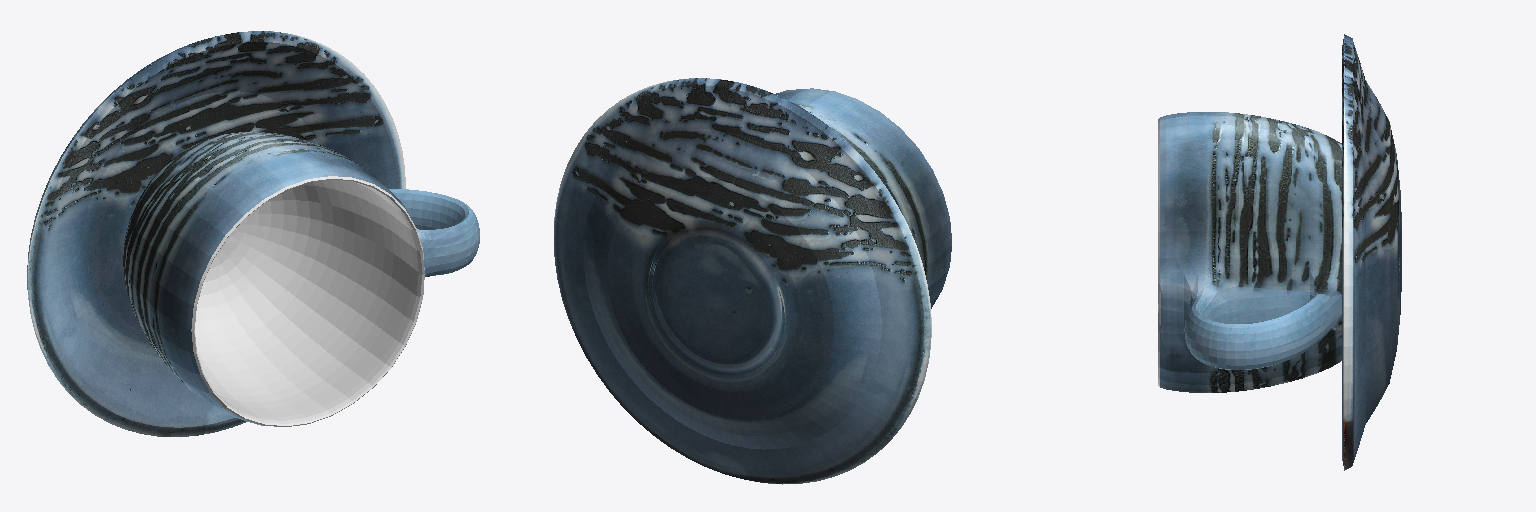
The picture shows the model from 3 angles: view 1: azimuth 30°, elevation 25°; view 2: azimuth 150°, elevation 25°; view 3: azimuth 270°, elevation 25°; orthographic projection.
Parts seen in each view (by area): view 1: 13.0.114.0; view 2: 13.0.114.0; view 3: 13.0.114.0.
Part boxes in pixels (x1,y1,x2,y2): 13.0.114.0: (27, 31, 479, 436); 13.0.114.0: (554, 78, 951, 484); 13.0.114.0: (1158, 34, 1401, 470).
Size of the model in its own units: 11.29 by 10.89 by 6.08.
Materials: 4 (3 with a texture image).